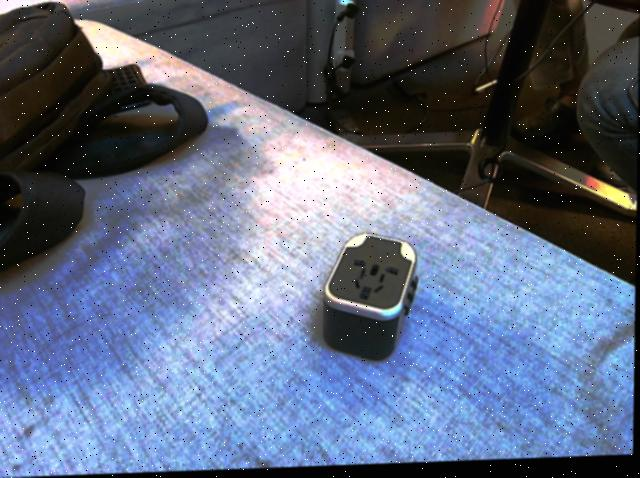adapter: (322, 233, 419, 365)
